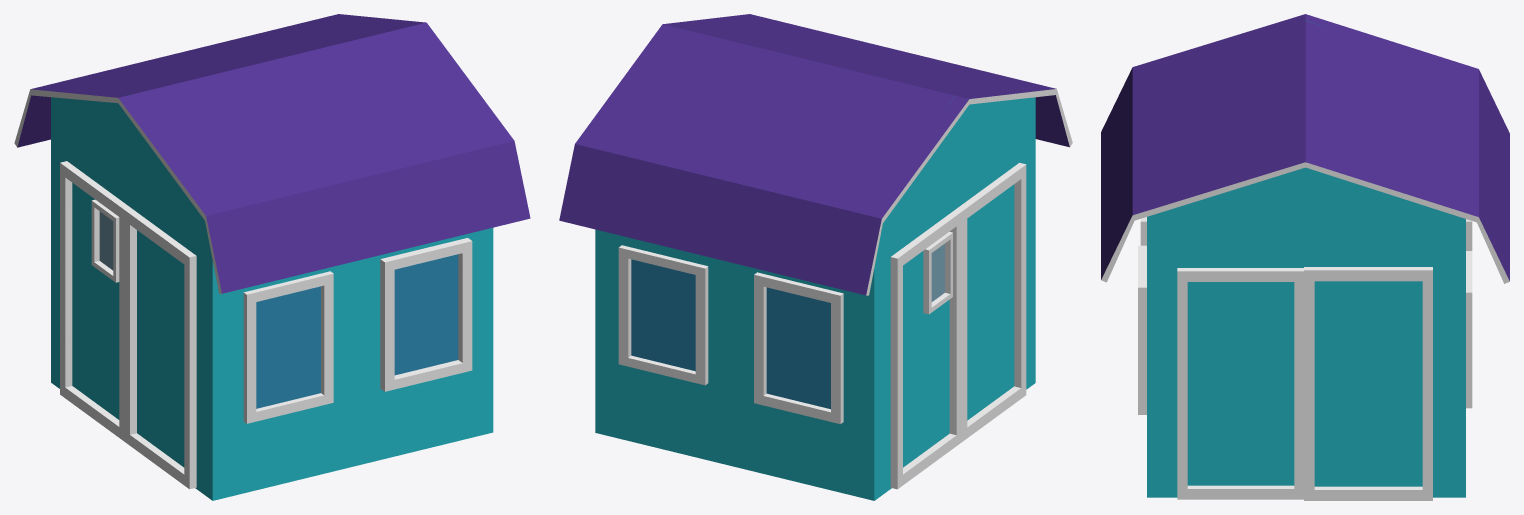
The model's file is PancakeswapBarn.glb.
3 views of the same model, side by side, from view 1: azimuth 30°, elevation 25°; view 2: azimuth 150°, elevation 25°; view 3: azimuth 270°, elevation 25° (orthographic).
Parts seen in each view (by area): view 1: Roof, BasicBarnCube, WindoewsLeftBack, WindoewsLeftFront, DoorFrameRight, DoorFrameLeft, DoorWindows; view 2: Roof, BasicBarnCube, WindowsRightFront, WindowsRightBack, DoorFrameLeft, DoorFrameRight, DoorWindows; view 3: BasicBarnCube, Roof, DoorFrameBackLeft, DoorFrameBackRight, WindoewsLeftBack, WindowsRightBack.
Boxes of the visible parts, box(x1,y1,x2,y2) form: Roof: box(14, 14, 530, 293); BasicBarnCube: box(51, 93, 493, 500); WindoewsLeftBack: box(380, 238, 472, 391); WindoewsLeftFront: box(243, 271, 333, 423); DoorFrameRight: box(124, 208, 196, 489); DoorFrameLeft: box(60, 161, 131, 441); DoorWindows: box(91, 199, 119, 282); Roof: box(559, 14, 1072, 295); BasicBarnCube: box(595, 96, 1035, 500); WindowsRightFront: box(754, 272, 843, 424); WindowsRightBack: box(618, 245, 708, 385); DoorFrameLeft: box(890, 210, 961, 489); DoorFrameRight: box(955, 162, 1026, 441); DoorWindows: box(923, 231, 952, 314); BasicBarnCube: box(1147, 20, 1465, 497); Roof: box(1101, 14, 1509, 283); DoorFrameBackLeft: box(1304, 267, 1432, 500); DoorFrameBackRight: box(1177, 268, 1303, 499); WindoewsLeftBack: box(1138, 245, 1146, 414); WindowsRightBack: box(1466, 251, 1472, 408).
Bounding box in the file's own units: 2.2 × 2.37 × 2.57.
1 material, 1 textured.
